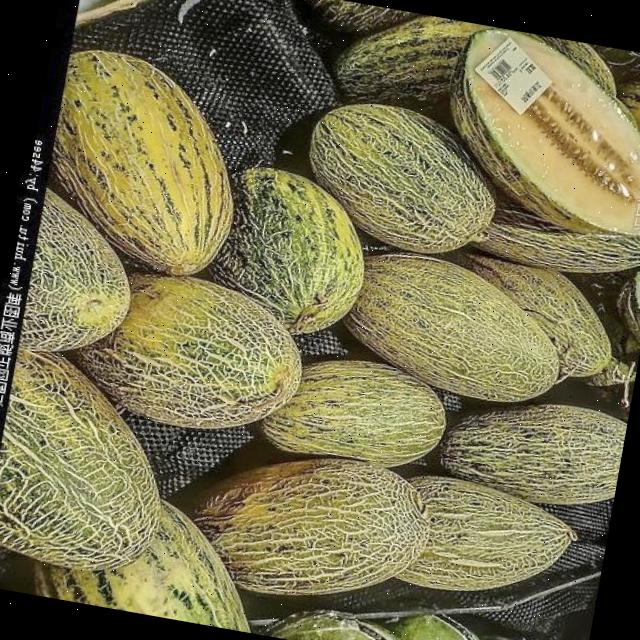Hami Melon: (36, 44, 256, 282), (175, 435, 440, 618), (62, 255, 316, 445), (0, 344, 182, 582), (329, 238, 574, 410), (13, 477, 269, 632), (296, 88, 510, 263), (202, 156, 378, 344), (392, 470, 582, 610), (258, 344, 452, 478), (438, 384, 628, 514)
